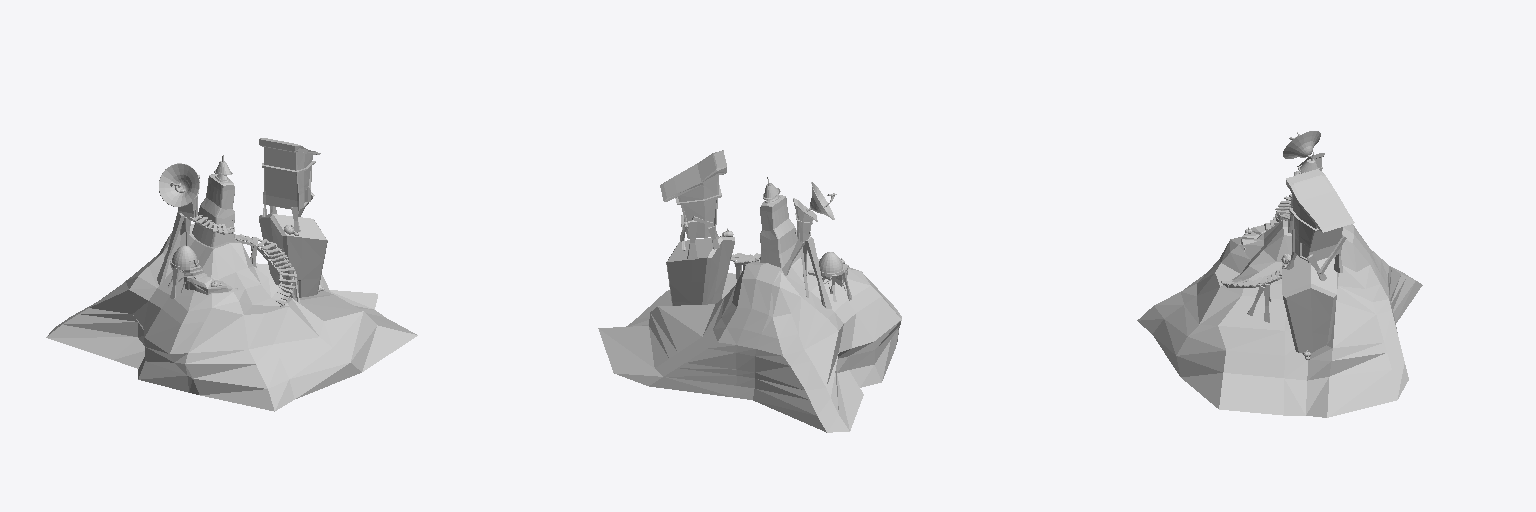
The model's file is Precarious Buildings2.obj.
3 renders of one model, left to right at view 1: azimuth 30°, elevation 25°; view 2: azimuth 150°, elevation 25°; view 3: azimuth 270°, elevation 25°, orthographic.
Visible parts, largest first — view 1: Land House, House Houses House2, House House_4 Houses, House Houses Main_House_main Main_House, House Satelite_Part_1_Geo Satelite, House Houses EEGoo_House_1 EEGoo_House_3; view 2: Land House, House Houses House2, House House_4 Houses, House Houses Main_House_main Main_House, House Houses House_3 House_3; view 3: Land House, House House_4 Houses, House Houses House2, House Satelite_Part_1_Geo Satelite.
Boxes of the visible parts, <box> form: Land House: <box>46,223,417,411</box>; House Houses House2: <box>259,214,327,297</box>; House House_4 Houses: <box>259,138,320,210</box>; House Houses Main_House_main Main_House: <box>192,174,234,246</box>; House Satelite_Part_1_Geo Satelite: <box>159,163,199,206</box>; House Houses EEGoo_House_1 EEGoo_House_3: <box>184,265,237,294</box>; Land House: <box>598,251,901,432</box>; House Houses House2: <box>666,237,734,305</box>; House House_4 Houses: <box>660,150,726,238</box>; House Houses Main_House_main Main_House: <box>760,195,800,267</box>; House Houses House_3 House_3: <box>793,198,817,242</box>; Land House: <box>1137,220,1422,417</box>; House House_4 Houses: <box>1286,169,1354,262</box>; House Houses House2: <box>1282,255,1336,353</box>; House Satelite_Part_1_Geo Satelite: <box>1283,131,1320,158</box>.
Bounding box in the file's own units: 139 × 89.07 × 118.